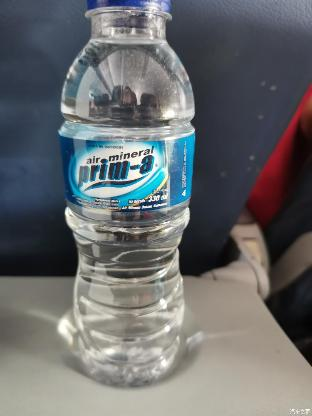Plastic Bottle: (57, 0, 197, 388)
